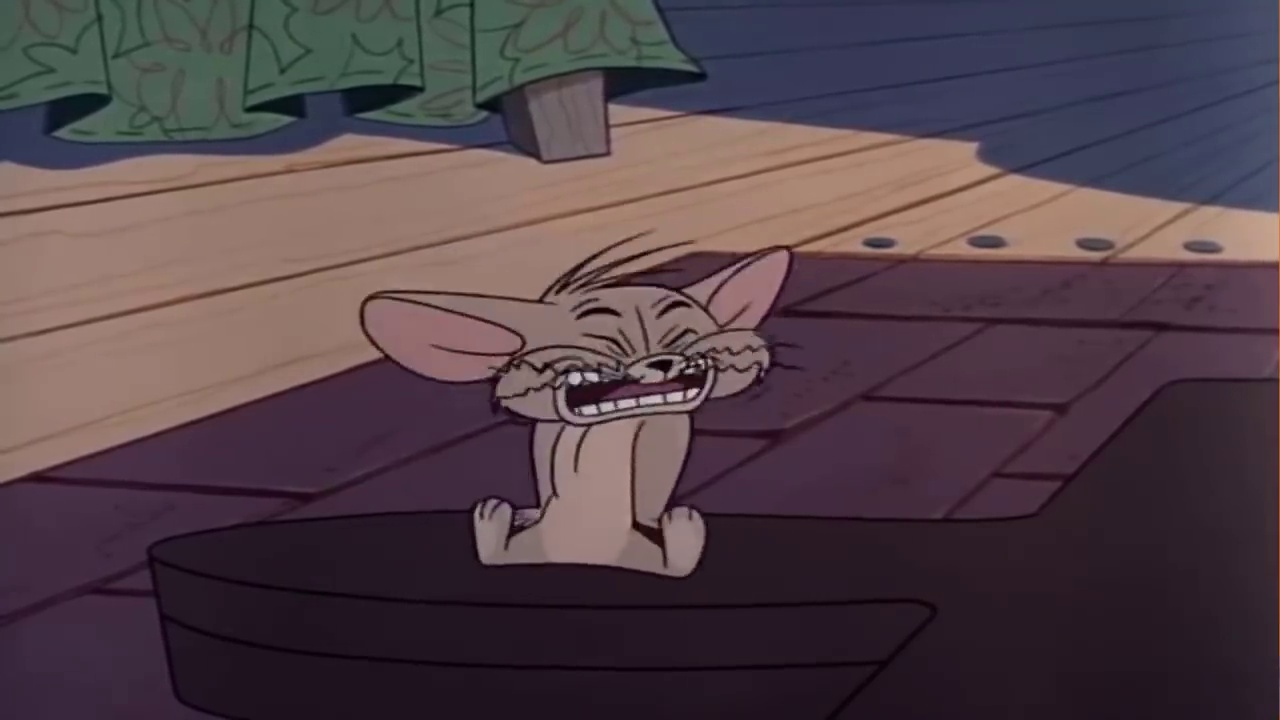face: (546, 296, 721, 426)
